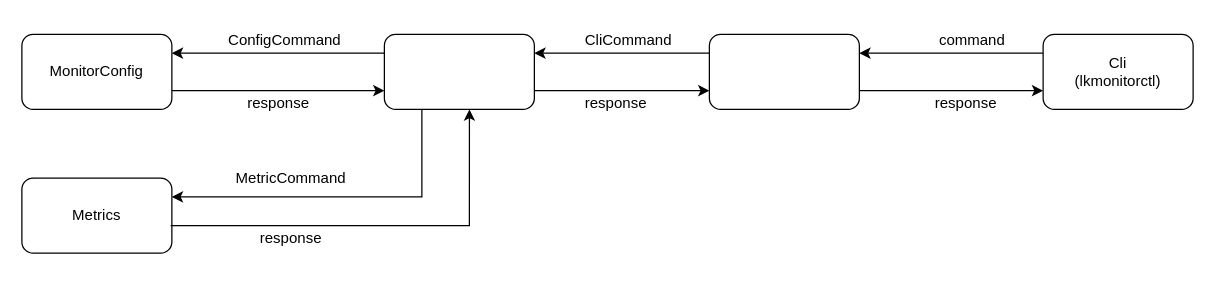
This 1215x293 diagram has some shape labels left out. The shapes that lost their labels are listed below. From the top down, each one's centre as x and y in pixels, then its label:
At point 458,71: "LinuxKernelMonitor".
At point 783,71: "CliServer".
